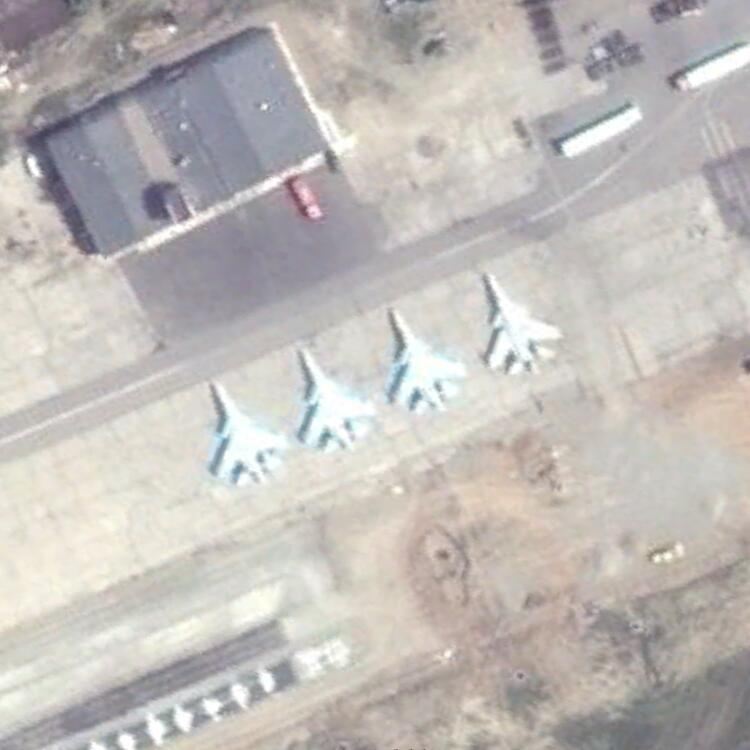A19: (378, 304, 473, 416), (202, 380, 291, 489), (478, 270, 566, 378), (291, 348, 378, 455)
